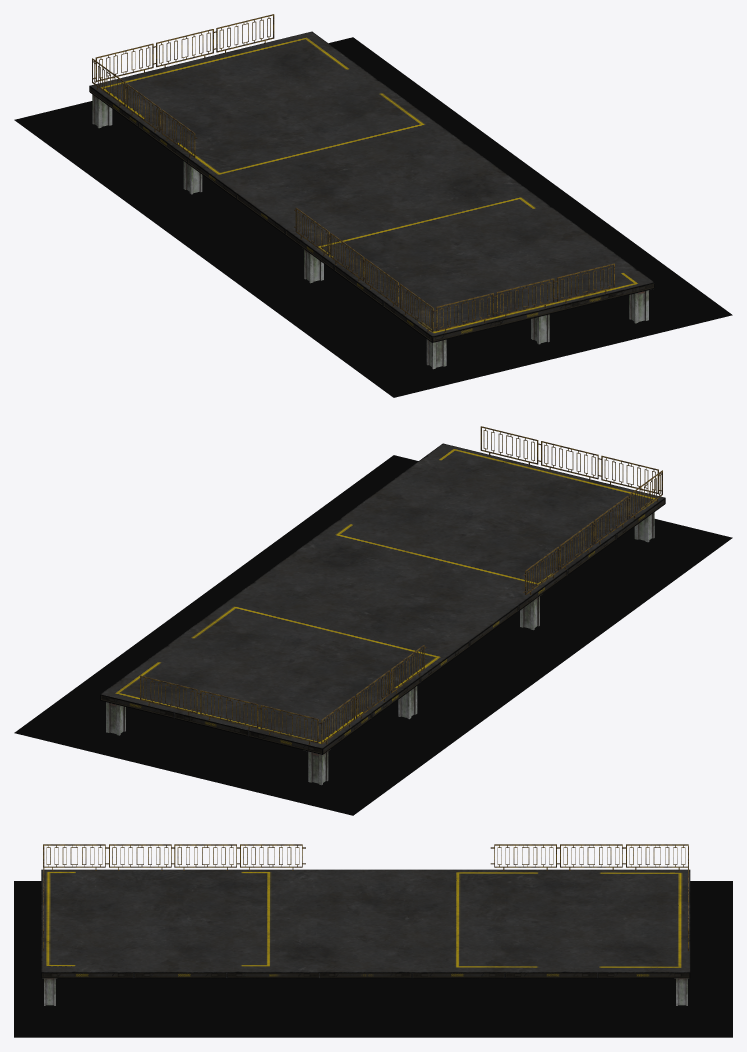
Rendered from workshop-building-metallic-protective-fence.glb.
The picture shows the model from 3 angles, top to bottom: view 1: azimuth 30°, elevation 25°; view 2: azimuth 150°, elevation 25°; view 3: azimuth 270°, elevation 25°; orthographic projection. The views are drawn at different scales.
Parts seen in each view (by area): view 1: Object_2, Object_3, Object_4, Object_5; view 2: Object_2, Object_3, Object_4, Object_5; view 3: Object_2, Object_3, Object_4, Object_5.
Boxes of the visible parts, x1=… form: Object_2: x1=89, y1=31, x2=654, y2=342; Object_3: x1=14, y1=37, x2=732, y2=397; Object_4: x1=92, y1=14, x2=614, y2=332; Object_5: x1=91, y1=93, x2=648, y2=369; Object_2: x1=100, y1=443, x2=665, y2=754; Object_3: x1=14, y1=455, x2=732, y2=815; Object_4: x1=140, y1=426, x2=662, y2=744; Object_5: x1=106, y1=512, x2=654, y2=785; Object_2: x1=41, y1=869, x2=690, y2=978; Object_3: x1=14, y1=881, x2=732, y2=1037; Object_4: x1=43, y1=844, x2=689, y2=951; Object_5: x1=42, y1=978, x2=688, y2=1005.
Bounding box in the file's own units: 2284 × 420 × 4431.
Materials: 4 (3 with a texture image).
